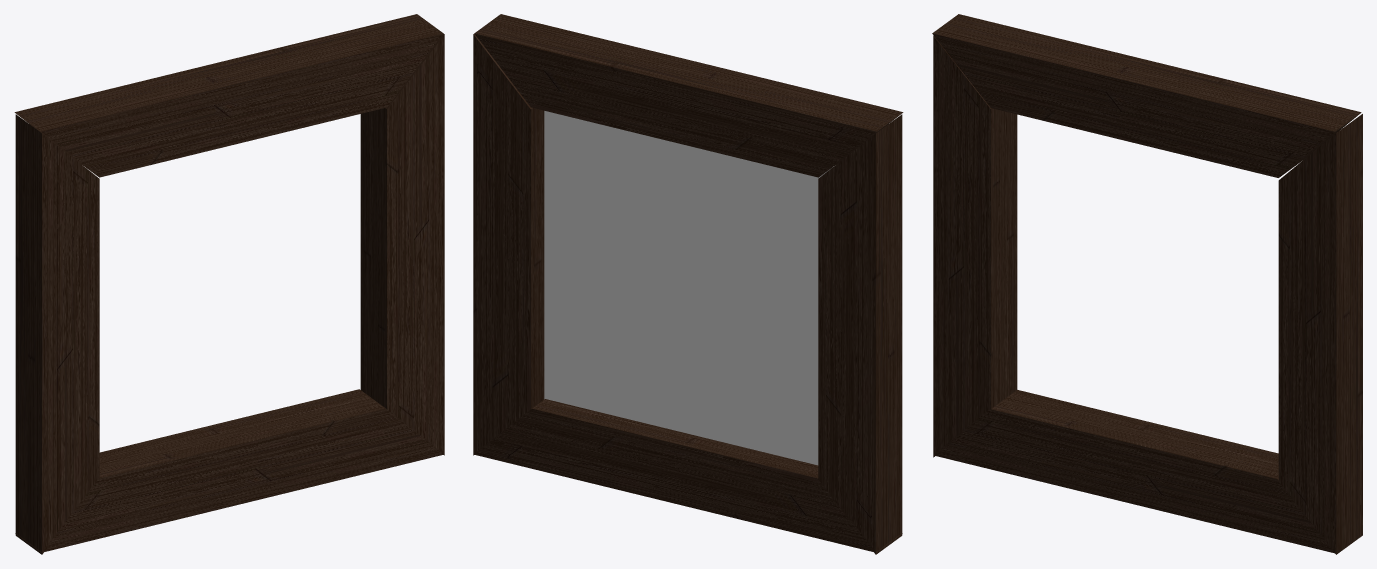
Rendered from frame-square.glb.
3 renders of one model, left to right at view 1: azimuth 30°, elevation 25°; view 2: azimuth 150°, elevation 25°; view 3: azimuth 330°, elevation 25°, orthographic.
Parts seen in each view (by area): view 1: Cube.004, Cube.002, Cube.001, Cube.003; view 2: painting, Cube.004, Cube.002, Cube.001, Cube.003; view 3: Cube.001, Cube.002, Cube.004, Cube.003.
Part boxes in pixels (box(x1,y1,x2,y2)): Cube.004: box(15, 114, 99, 554); Cube.002: box(14, 14, 443, 177); Cube.001: box(360, 33, 444, 455); Cube.003: box(15, 389, 444, 552); painting: box(544, 111, 832, 465); Cube.004: box(818, 114, 902, 554); Cube.002: box(474, 14, 903, 177); Cube.001: box(473, 33, 544, 455); Cube.003: box(473, 399, 902, 552); Cube.001: box(1278, 114, 1362, 554); Cube.002: box(932, 14, 1361, 177); Cube.004: box(933, 35, 1017, 457); Cube.003: box(933, 390, 1334, 553).
Size of the model in its own units: 3.51 by 3.52 by 0.4.
1 material, 1 textured.
